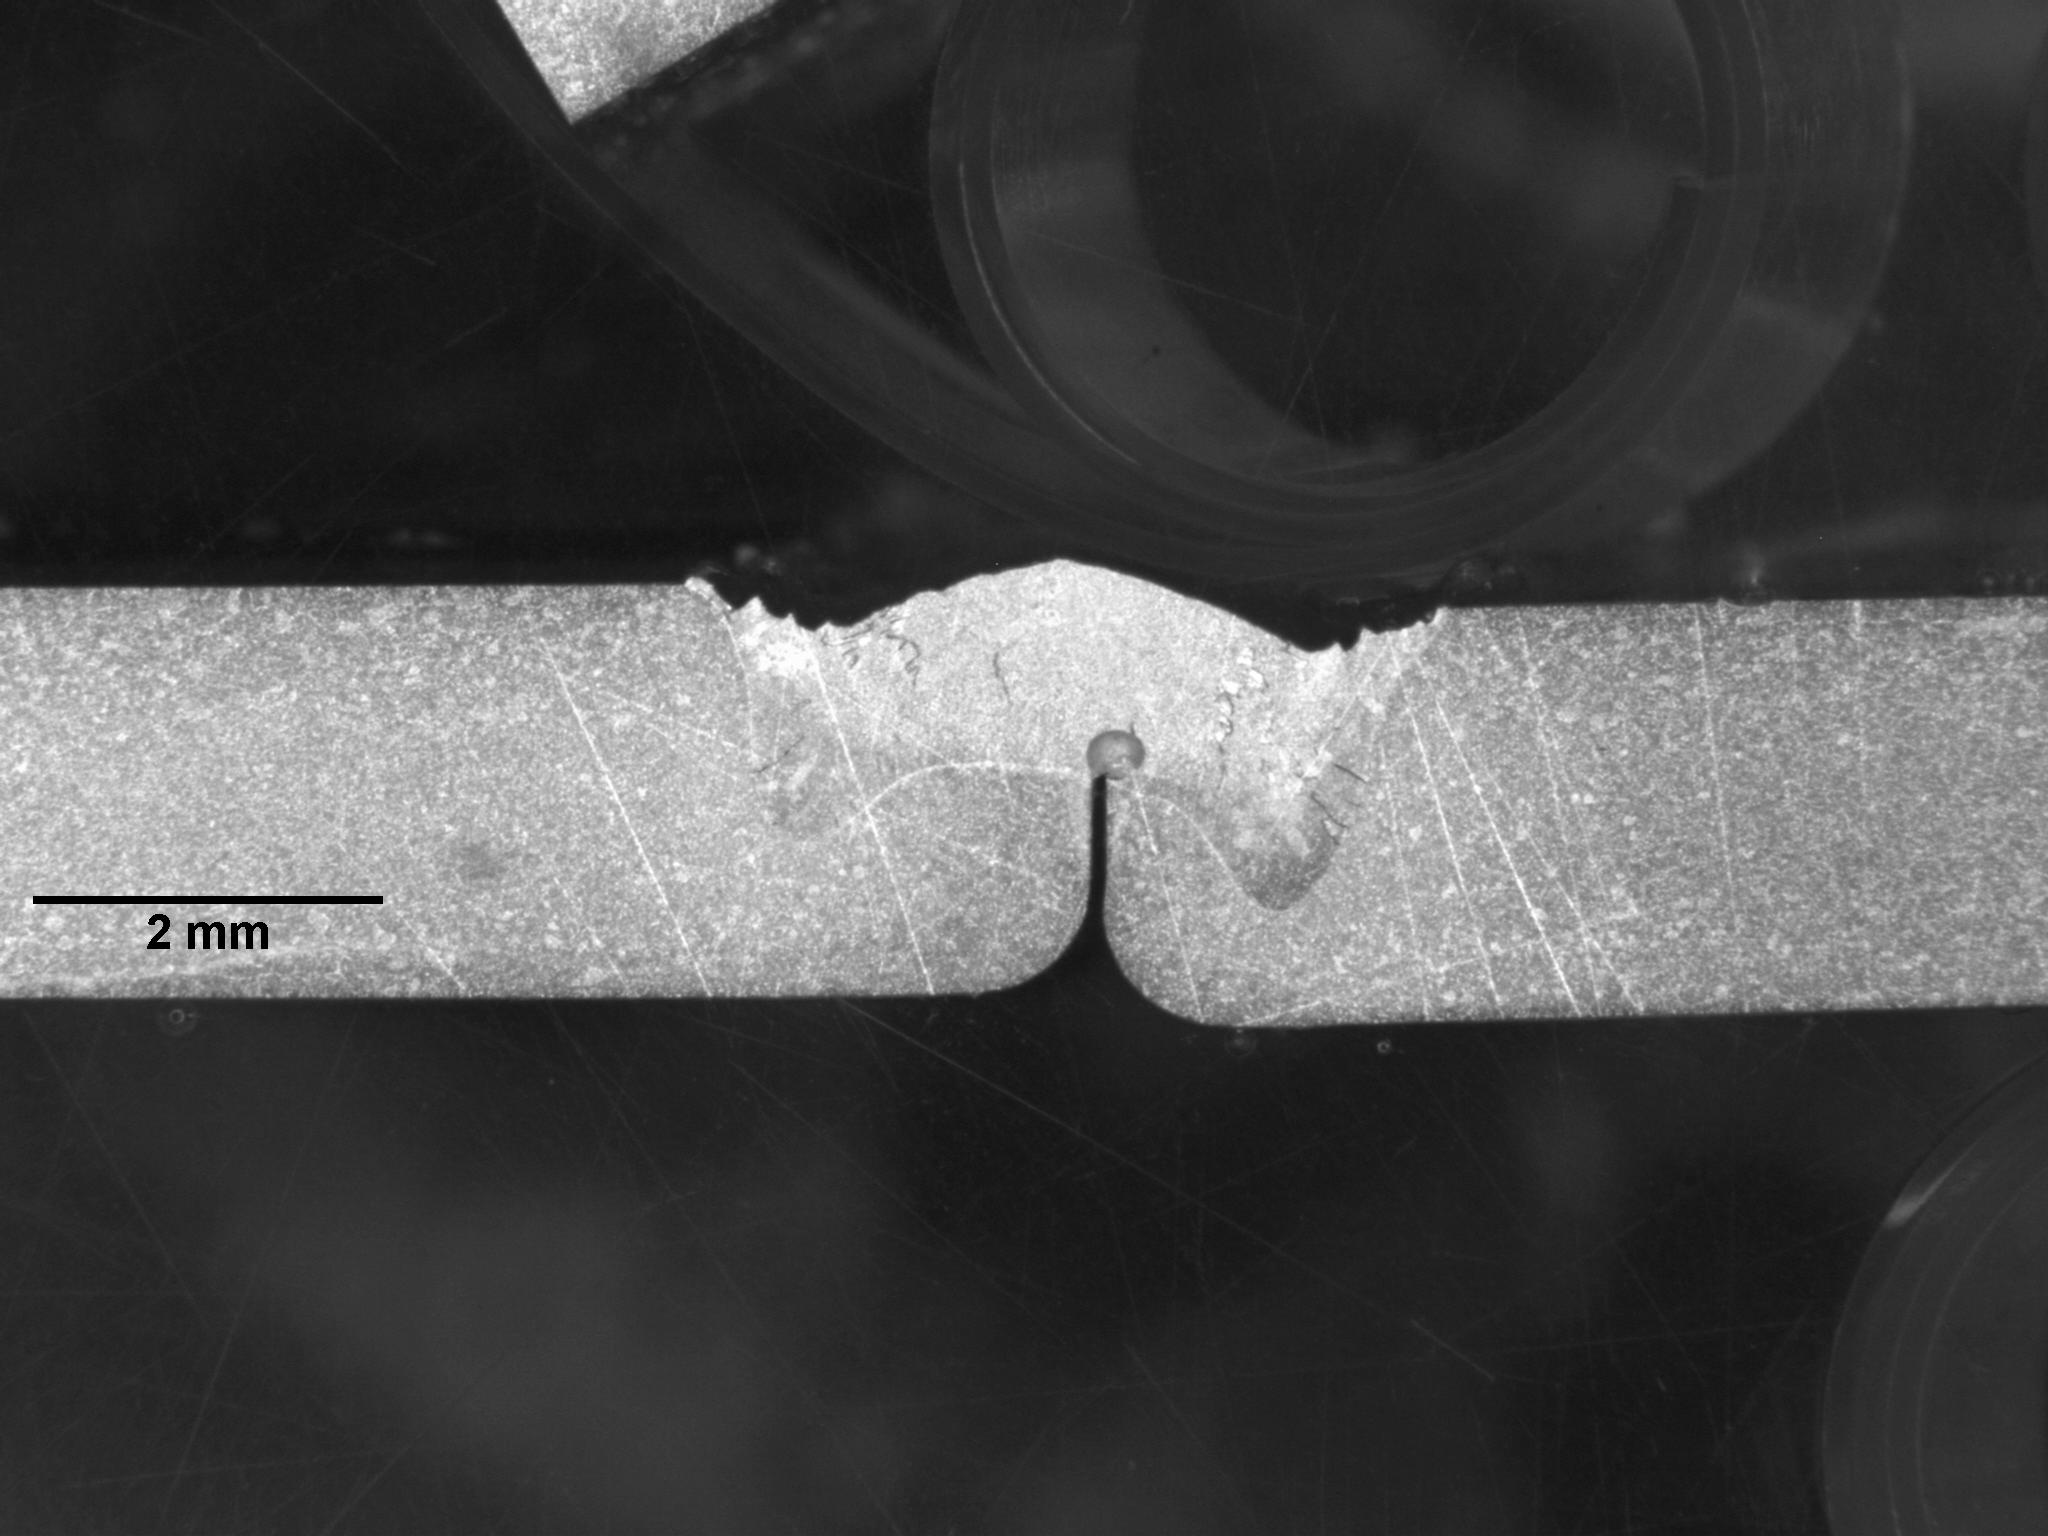Scale-bar: (26, 887, 390, 957)
